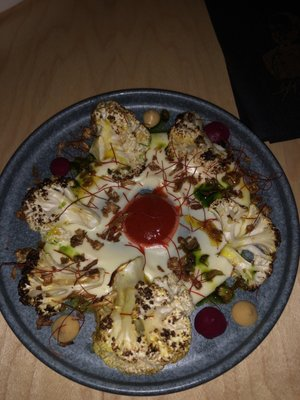curry: (0, 1, 300, 368)
sandwich: (2, 99, 281, 390)
